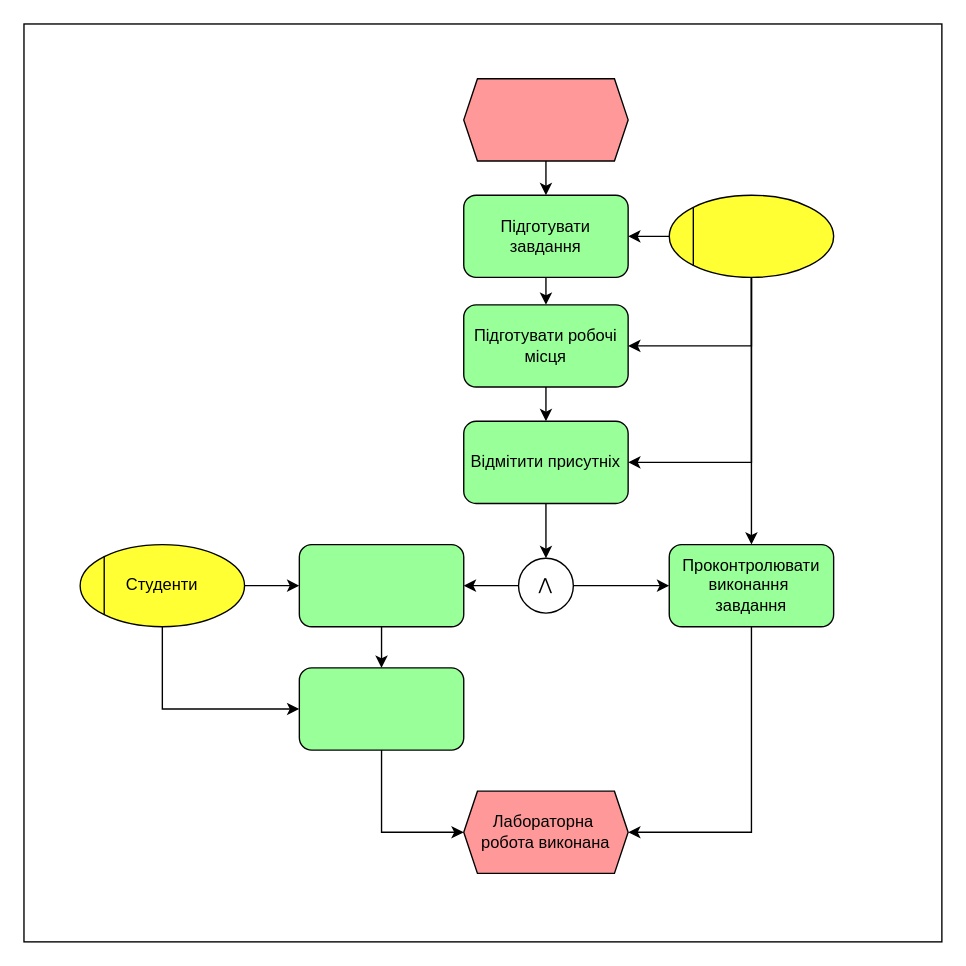
This 966x966 diagram has some shape labels left out. The centre of each missing label's shape, as x and y in pixels:
"Викладач" goes at (x=751, y=235).
"Виконати завдання" goes at (x=381, y=708).
"Лабораторна внесена у план курсу" goes at (x=545, y=119).
"Ознайомитися із завданням" goes at (x=381, y=585).
